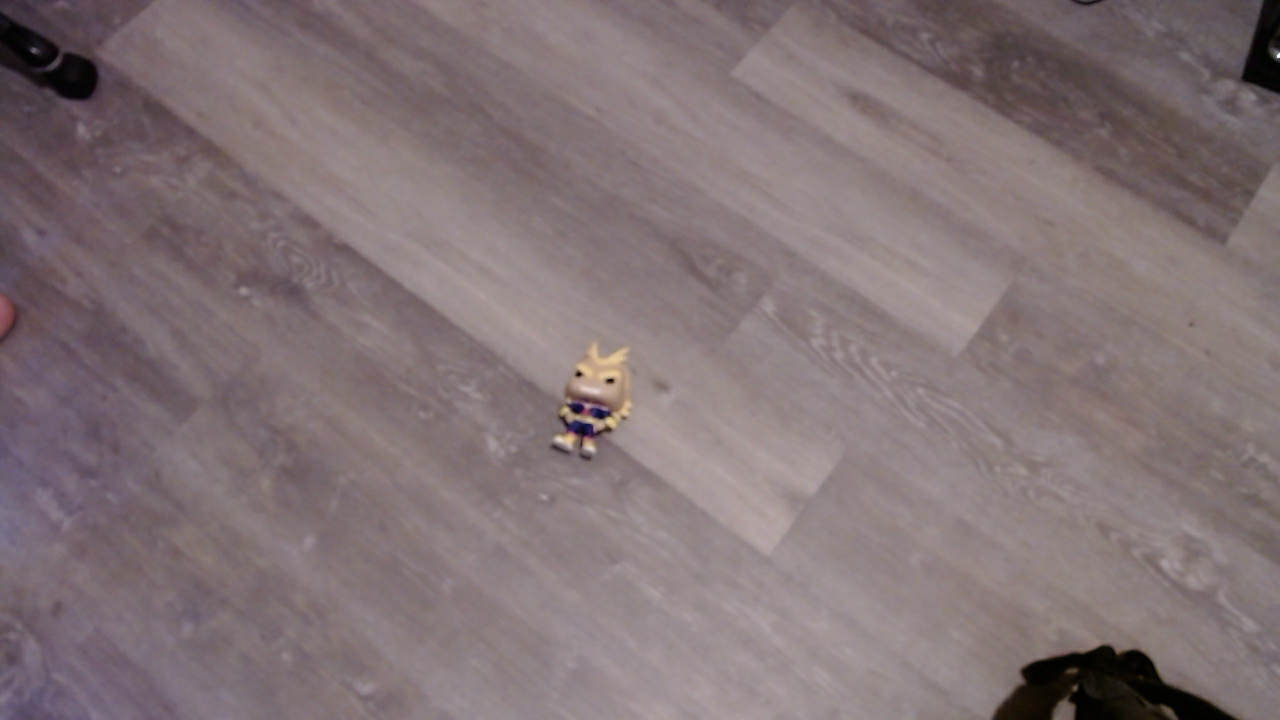all_might: (554, 346, 640, 468)
